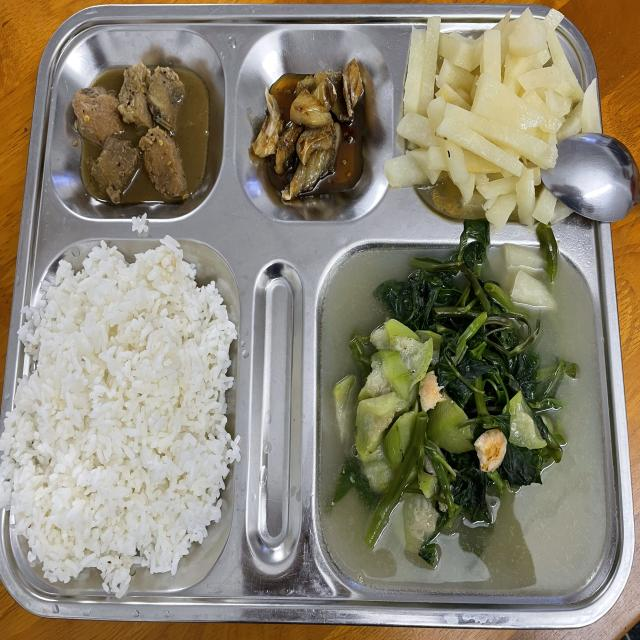com_trang: (35, 269, 219, 575)
thit_kho: (66, 66, 211, 194)
